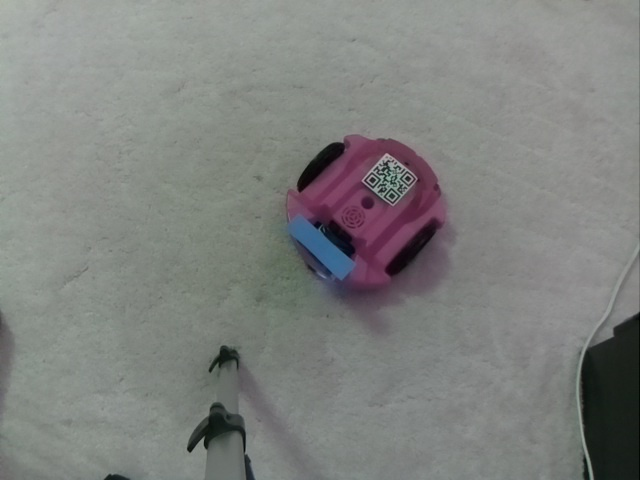chassis: (284, 132, 450, 291)
qr: (361, 151, 419, 206)
